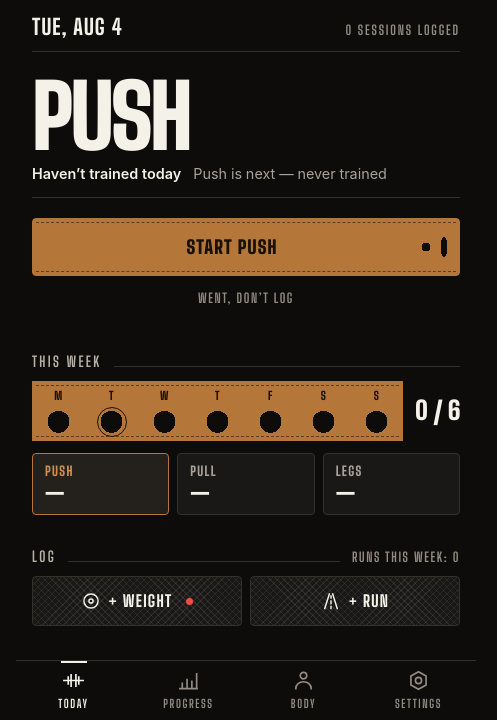
it: settings › switching to lb converts displayed weights without touching storage
The width and height of the screenshot is (497, 720).
Click the button "+ weight" at {"x": 137, "y": 601}, box [32, 576, 242, 626]
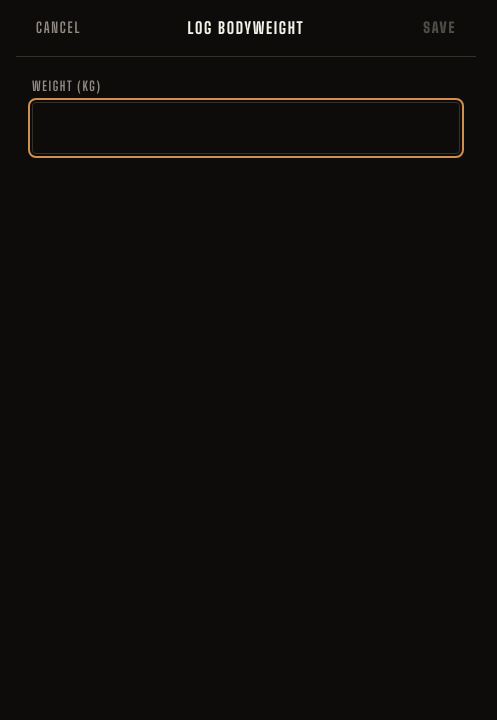
Type "100" into the field labelled "Weight (kg)" at {"x": 246, "y": 128}, box [32, 102, 460, 154]
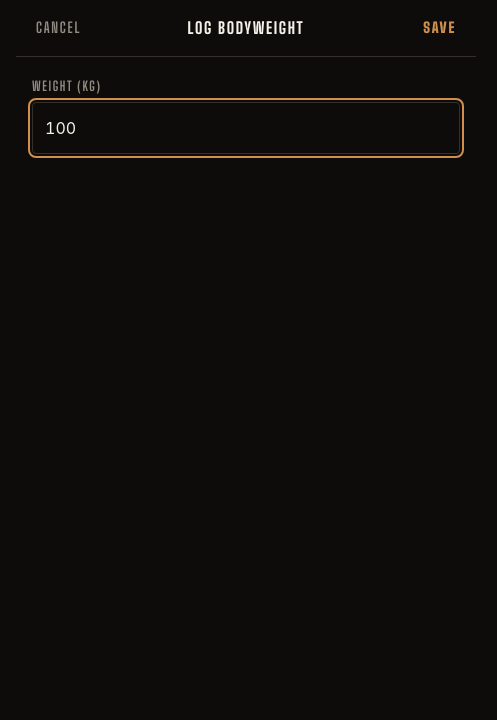
Click the button "Save" at {"x": 440, "y": 28}, box [415, 4, 464, 52]
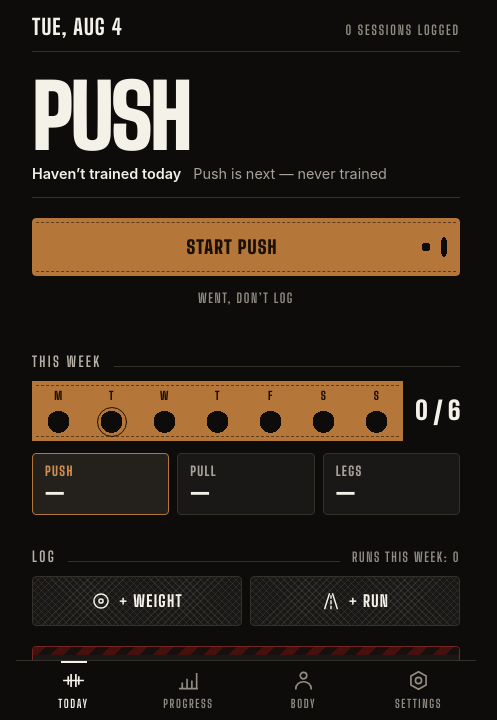
Click the button "Settings" at {"x": 418, "y": 690}, box [361, 661, 476, 719]
(page scrolled)
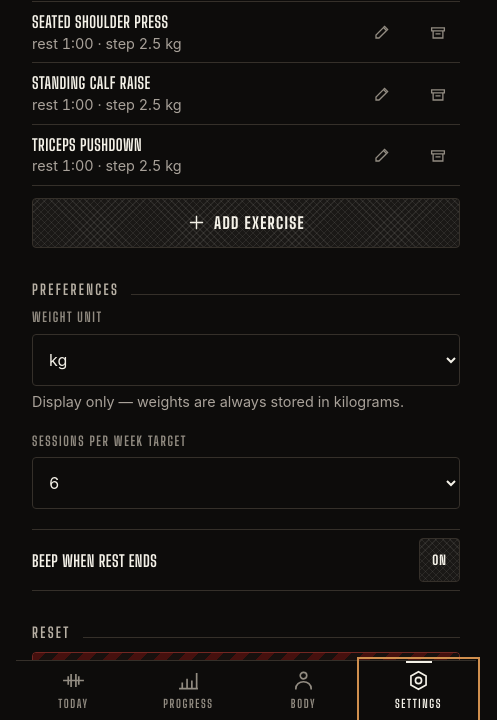
Select "lb" in the dropdown labelled "Weight unit" at {"x": 246, "y": 360}, box [32, 334, 460, 386]
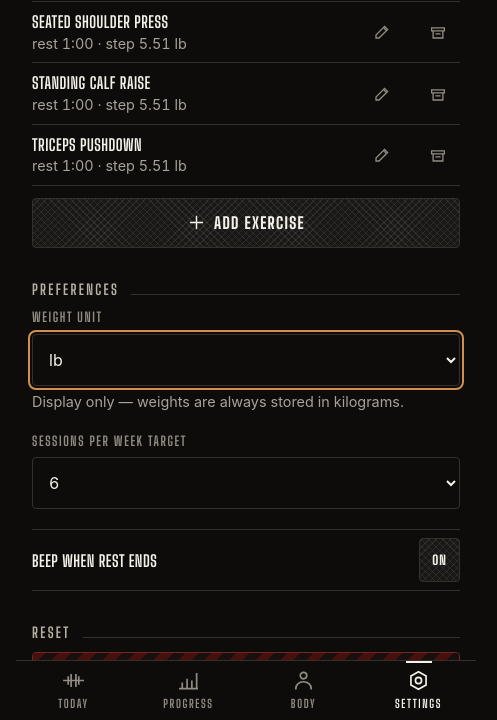
Click the button "Body" at {"x": 304, "y": 690}, box [246, 661, 361, 719]
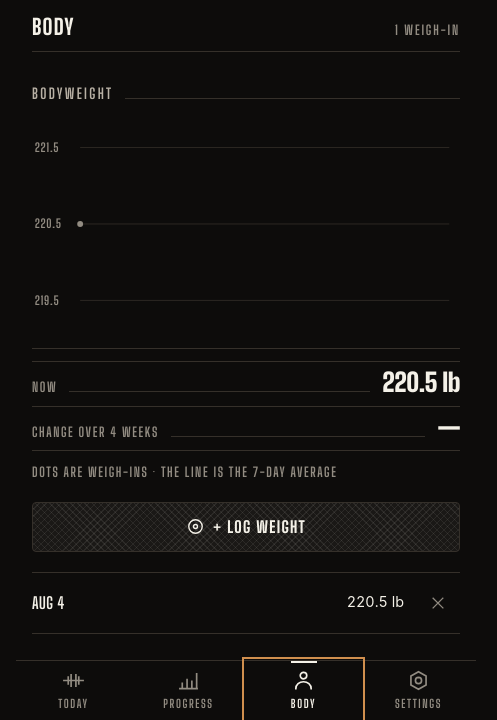
Check: the text "220.5 lb" is shown 2 times, box [382, 370, 460, 396]; [347, 592, 404, 613]
